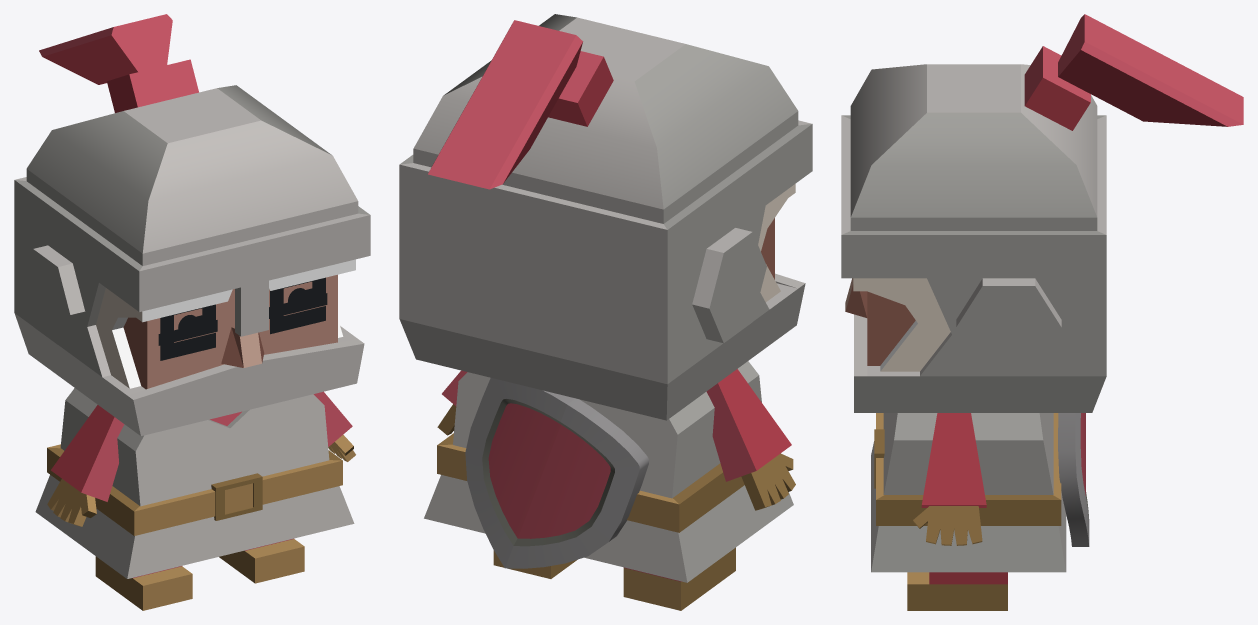
The picture shows the model from 3 angles, left to right: view 1: azimuth 30°, elevation 25°; view 2: azimuth 150°, elevation 25°; view 3: azimuth 270°, elevation 25°; orthographic projection. The views are drawn at different scales.
Parts seen in each view (by area): view 1: Ch_239_Head, Ch_239, Ch_239_Arm_L, Ch_239_Leg_L, Ch_239_Leg_R, Ch_239_Eye_03_L, Ch_239_Eye_03_R, Ch_239_Arm_R, Ch_239_Eye_02, Ch_239_Eye_01; view 2: Ch_239_Head, Ch_239, Ch_239_Arm_L, Ch_239_Leg_L, Ch_239_Arm_R, Ch_239_Leg_R; view 3: Ch_239_Head, Ch_239, Ch_239_Arm_R, Ch_239_Leg_R.
Part boxes in pixels (x1,y1,x2,y2): Ch_239_Head: (14,14,370,435); Ch_239: (35,388,354,578); Ch_239_Arm_L: (47,405,124,526); Ch_239_Leg_L: (95,556,192,610); Ch_239_Leg_R: (219,538,304,583); Ch_239_Eye_03_L: (160,304,215,360); Ch_239_Eye_03_R: (270,277,325,334); Ch_239_Arm_R: (313,391,355,461); Ch_239_Eye_02: (158,293,327,345); Ch_239_Eye_01: (178,288,307,336); Ch_239_Head: (399,14,812,420); Ch_239: (424,361,793,582); Ch_239_Arm_L: (706,369,795,510); Ch_239_Leg_L: (623,547,735,610); Ch_239_Arm_R: (437,370,467,435); Ch_239_Leg_R: (493,550,577,578); Ch_239_Head: (841,14,1243,412); Ch_239: (871,413,1089,572); Ch_239_Arm_R: (913,413,986,545); Ch_239_Leg_R: (907,572,1007,610).
Size of the model in its own units: 7.16 by 12.2 by 8.22.
